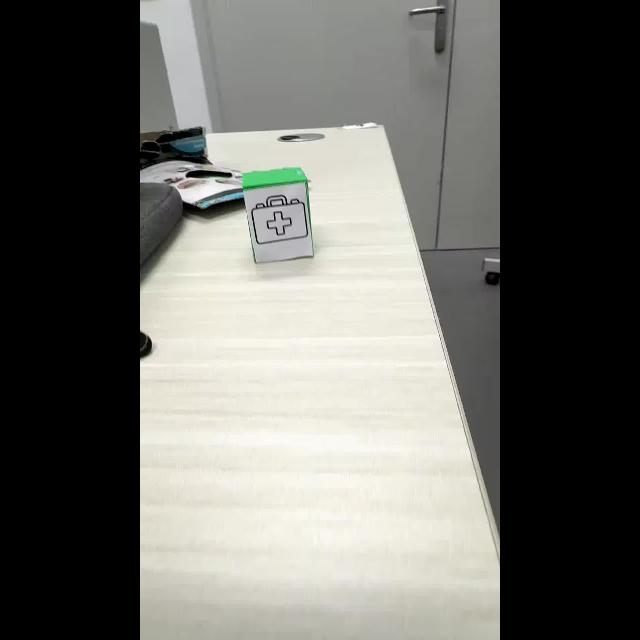Medkit: (251, 196, 308, 246)
